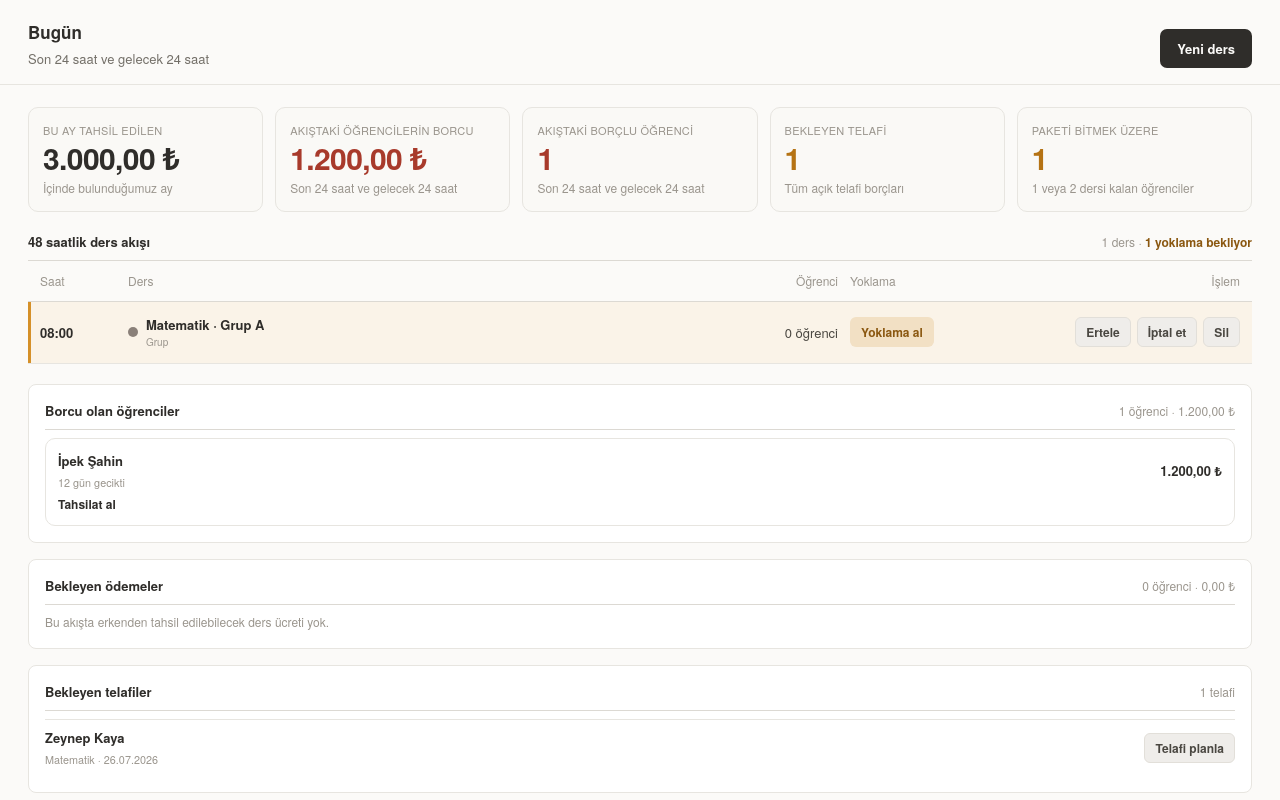
it: Bugün yoklama girişi › bitmiş dersin Yoklama al düğmesi E9 panelini açar
The width and height of the screenshot is (1280, 800).
Click the button "Yoklama al": (892, 332) [850,317,934,347]
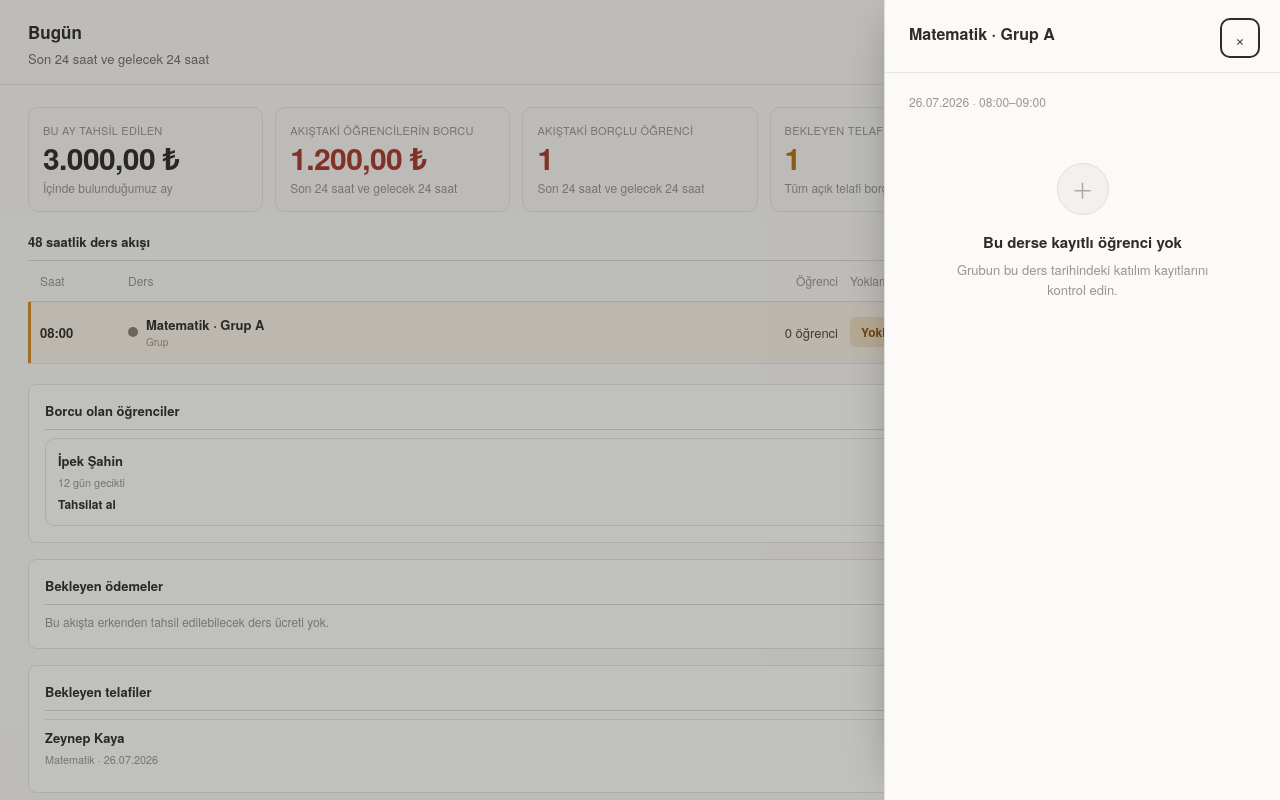
Result: the dialog "Matematik · Grup A" is shown at [884,0,1279,799]
